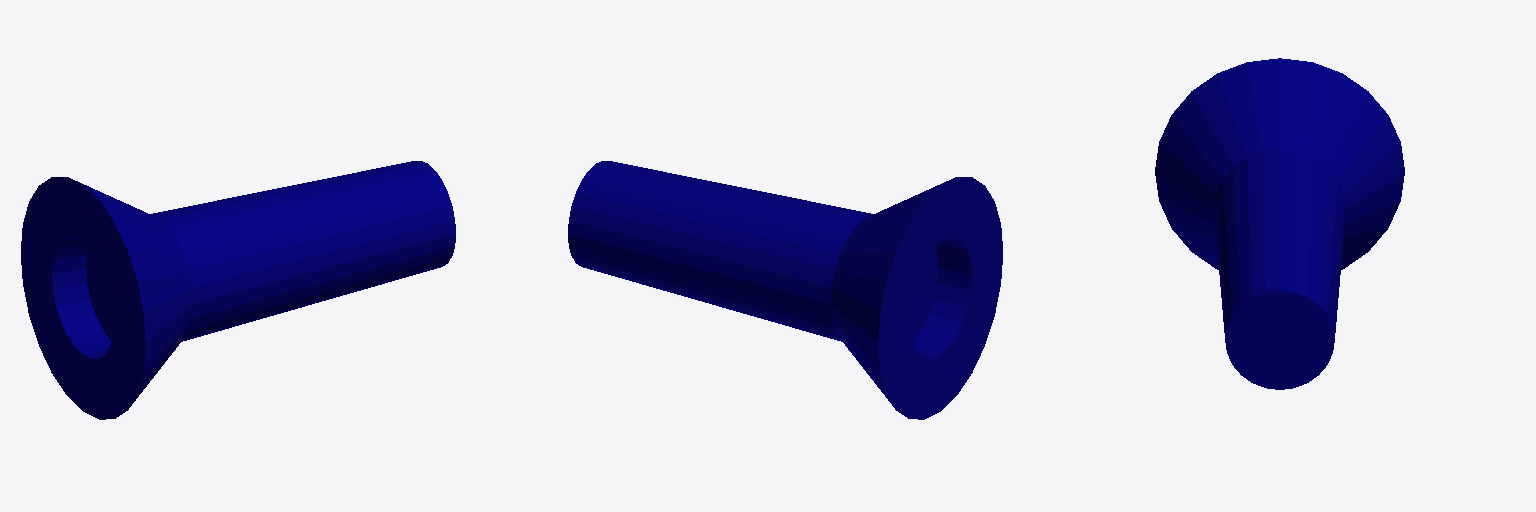
The model's file is FGSpeedPickUp.obj.
The picture shows the model from 3 angles: view 1: azimuth 30°, elevation 25°; view 2: azimuth 150°, elevation 25°; view 3: azimuth 270°, elevation 25°; orthographic projection.
Visible parts, largest first — view 1: Cone002; view 2: Cone002; view 3: Cone002.
Part boxes in pixels (left/top/right/bottom): Cone002: left=21, top=161, right=455, bottom=419; Cone002: left=568, top=161, right=1002, bottom=419; Cone002: left=1155, top=58, right=1404, bottom=389.
Size of the model in its own units: 1.02 by 0.6372 by 0.6372.